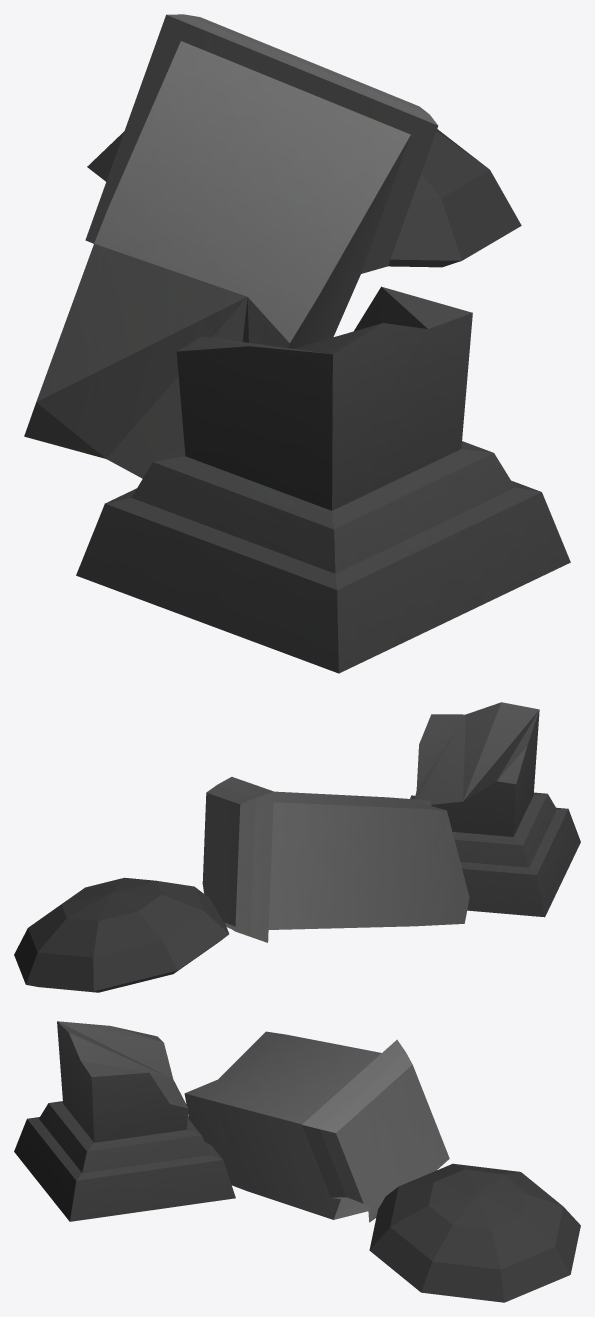
The model's file is ZLPC_Torch_08.FBX.
3 views of the same model, one above another, from view 1: azimuth 30°, elevation 25°; view 2: azimuth 150°, elevation 25°; view 3: azimuth 270°, elevation 25° (orthographic). The views are drawn at different scales.
Parts seen in each view (by area): view 1: ZLPC_Torch_08; view 2: ZLPC_Torch_08; view 3: ZLPC_Torch_08.
Part boxes in pixels (<box>): ZLPC_Torch_08: <box>24,14,570,673</box>; ZLPC_Torch_08: <box>14,702,580,992</box>; ZLPC_Torch_08: <box>14,1021,580,1302</box>.
Size of the model in its own units: 189 by 87.64 by 264.
1 material, 1 textured.
